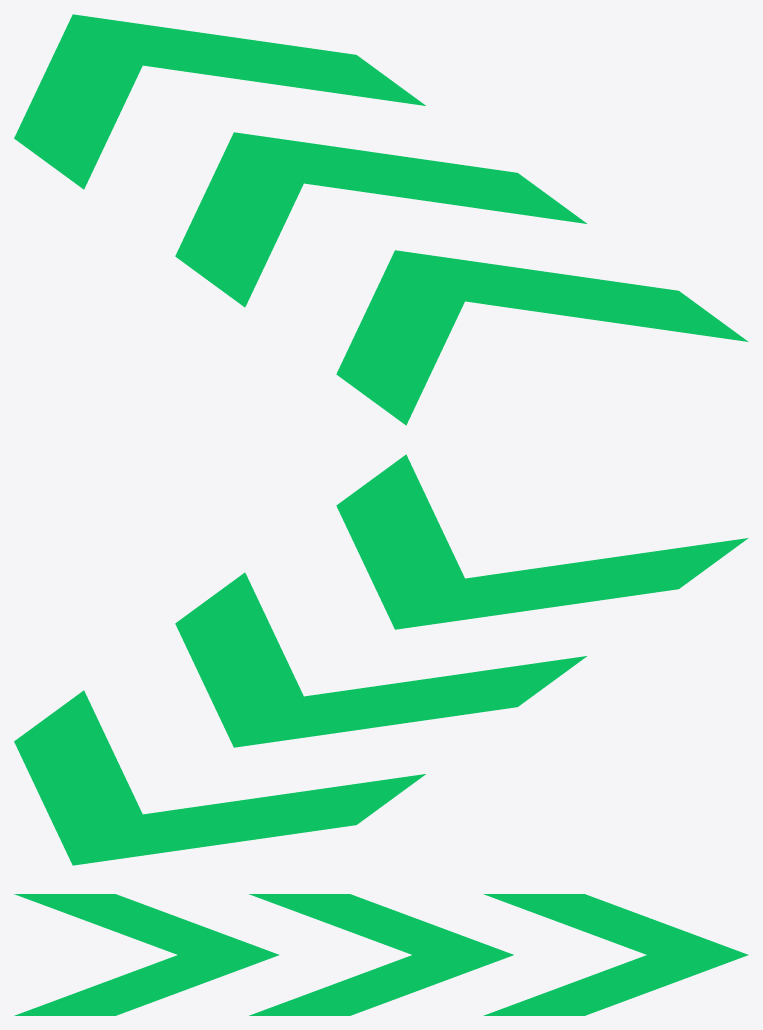
File: speedUp.glb
3 views of the same model, one above another, from view 1: azimuth 30°, elevation 25°; view 2: azimuth 150°, elevation 25°; view 3: azimuth 270°, elevation 25° (orthographic). The views are drawn at different scales.
Parts seen in each view (by area): view 1: suBase; view 2: suBase; view 3: suBase.
Part boxes in pixels (left/top/right/bottom): suBase: left=14, top=14, right=748, bottom=425; suBase: left=14, top=454, right=748, bottom=865; suBase: left=14, top=894, right=748, bottom=1015.
Size of the model in its own units: 0.9718 by 5.51e-16 by 2.48.
